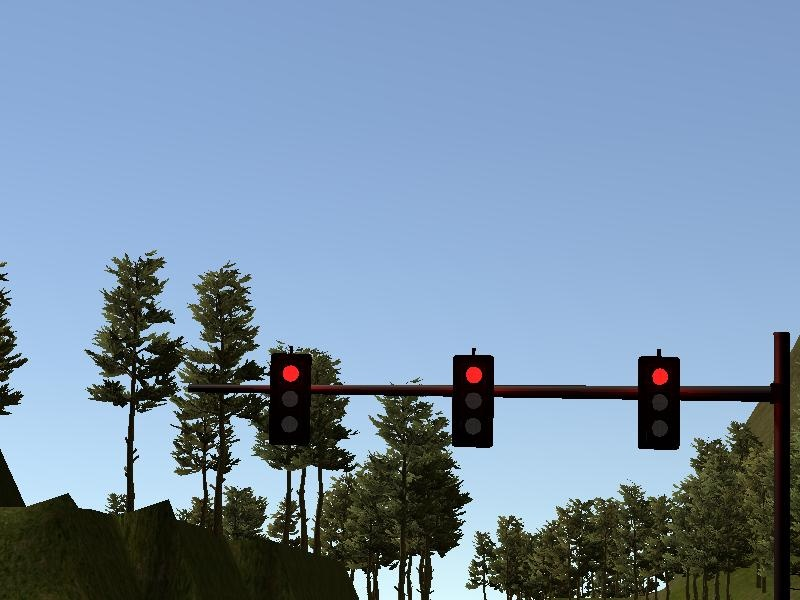Red: (635, 354, 683, 452), (450, 352, 496, 450), (268, 352, 311, 448)
